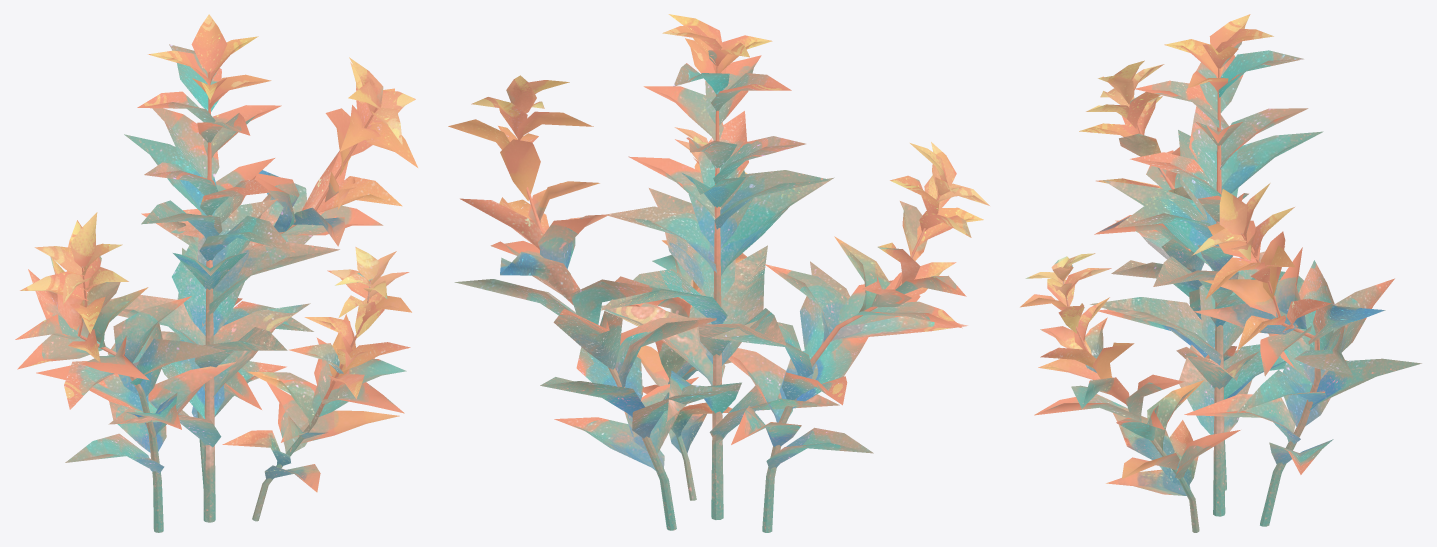
3 views of the same model, side by side, from view 1: azimuth 30°, elevation 25°; view 2: azimuth 150°, elevation 25°; view 3: azimuth 270°, elevation 25° (orthographic). The views are drawn at different scales.
Parts seen in each view (by area): view 1: plant5; view 2: plant5; view 3: plant5.
Boxes of the visible parts, box(x1,y1,x2,y2) form: plant5: box(15, 14, 417, 532); plant5: box(448, 14, 989, 532); plant5: box(1020, 14, 1421, 532).
Size of the model in its own units: 42.12 by 43.9 by 32.64.
1 material, 1 textured.
